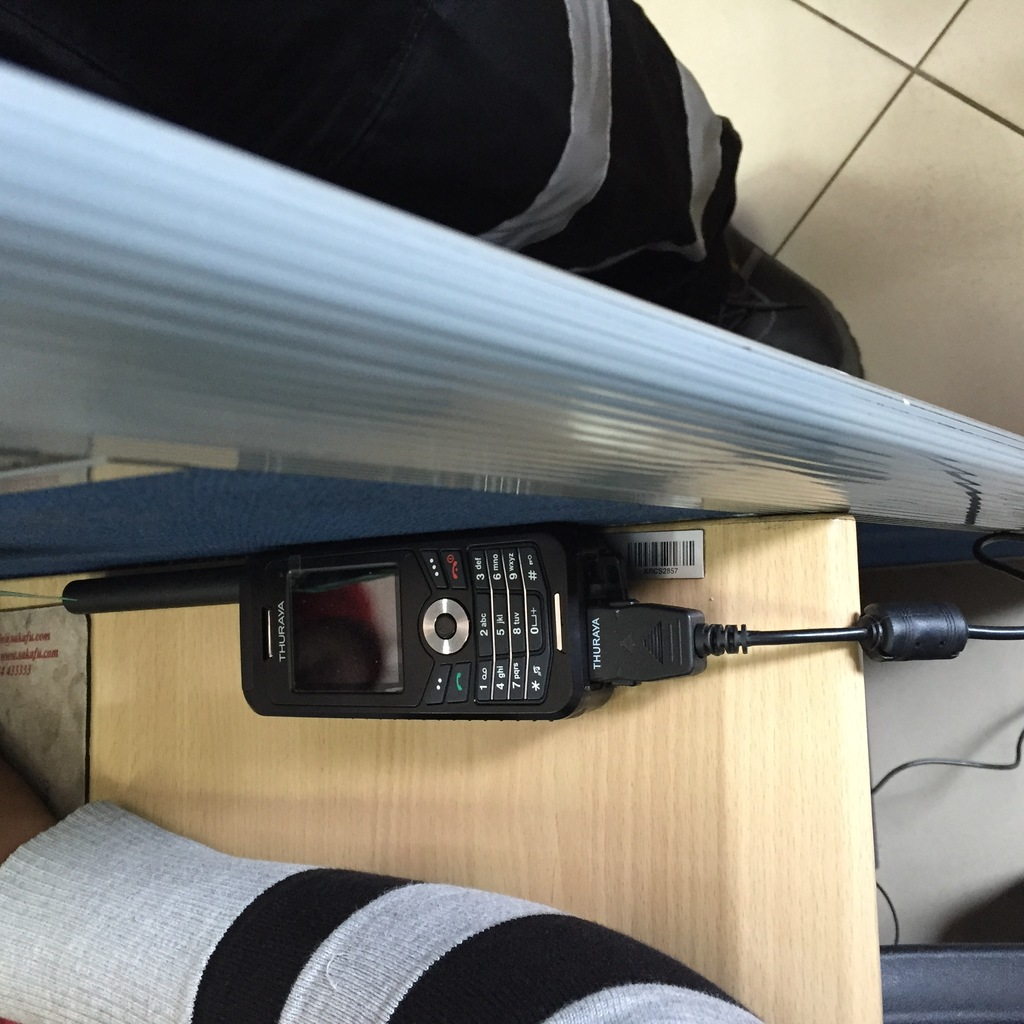Mobile-phone: (239, 545, 582, 720)
